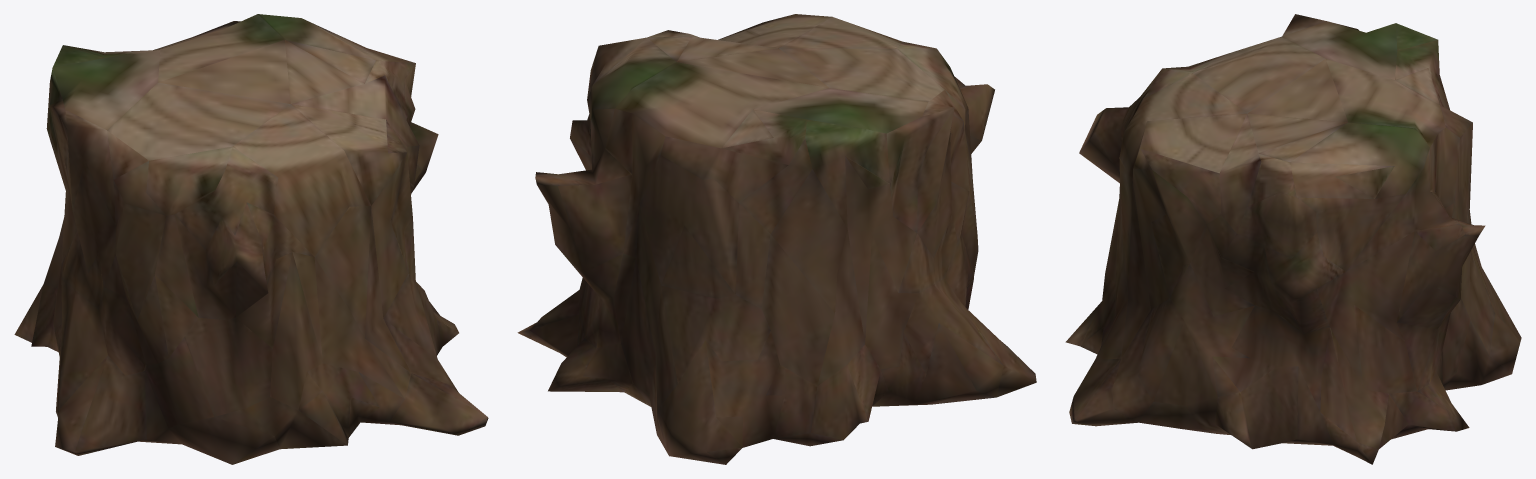
Rendered from souche-semis.glb.
3 renders of one model, left to right at view 1: azimuth 30°, elevation 25°; view 2: azimuth 150°, elevation 25°; view 3: azimuth 270°, elevation 25°, orthographic. The views are drawn at different scales.
Parts seen in each view (by area): view 1: souche-semis; view 2: souche-semis; view 3: souche-semis.
Boxes of the visible parts, box(x1,y1,x2,y2) form: souche-semis: box(14, 14, 488, 464); souche-semis: box(517, 14, 1036, 464); souche-semis: box(1065, 14, 1521, 464).
Size of the model in its own units: 1.76 by 1.19 by 1.69.
1 material, 1 textured.
